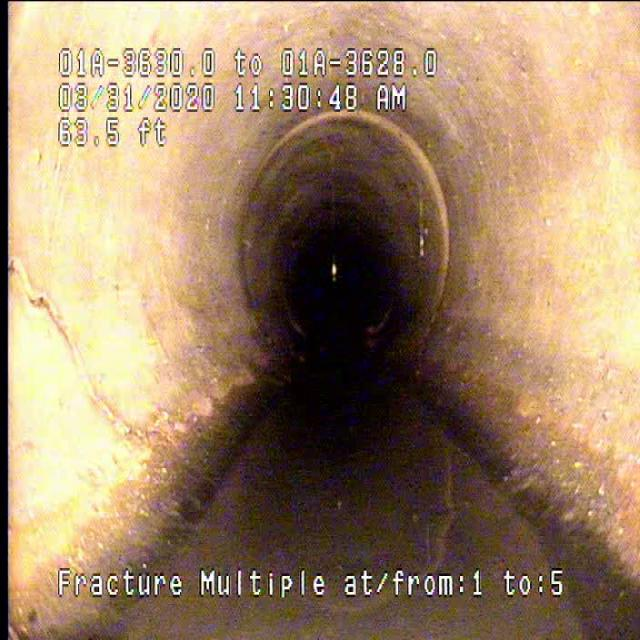Fracture: (18, 222, 158, 470)
